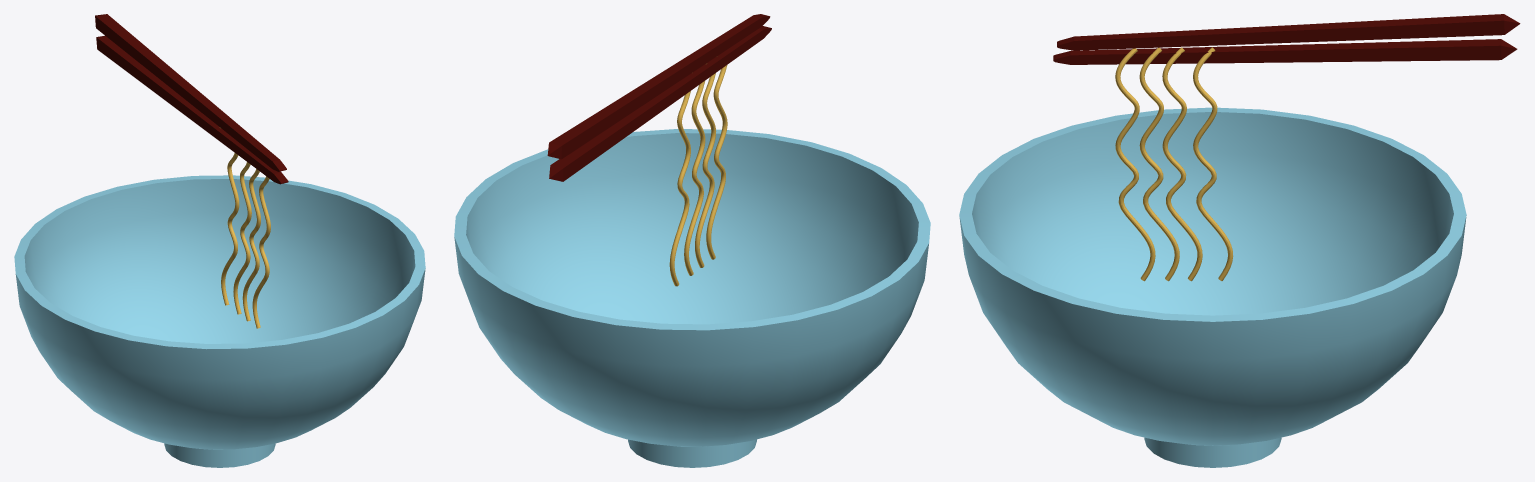
Rendered from noodle.glb.
3 renders of one model, left to right at view 1: azimuth 30°, elevation 25°; view 2: azimuth 150°, elevation 25°; view 3: azimuth 270°, elevation 25°, orthographic. The views are drawn at different scales.
Visible parts, largest first — view 1: Cylinder; view 2: Cylinder; view 3: Cylinder.
Part boxes in pixels (x1,y1,x2,y2): Cylinder: (14,14,425,467); Cylinder: (454,14,930,467); Cylinder: (959,14,1520,467).
Bounding box in the file's own units: 2 × 1.83 × 2.21.
